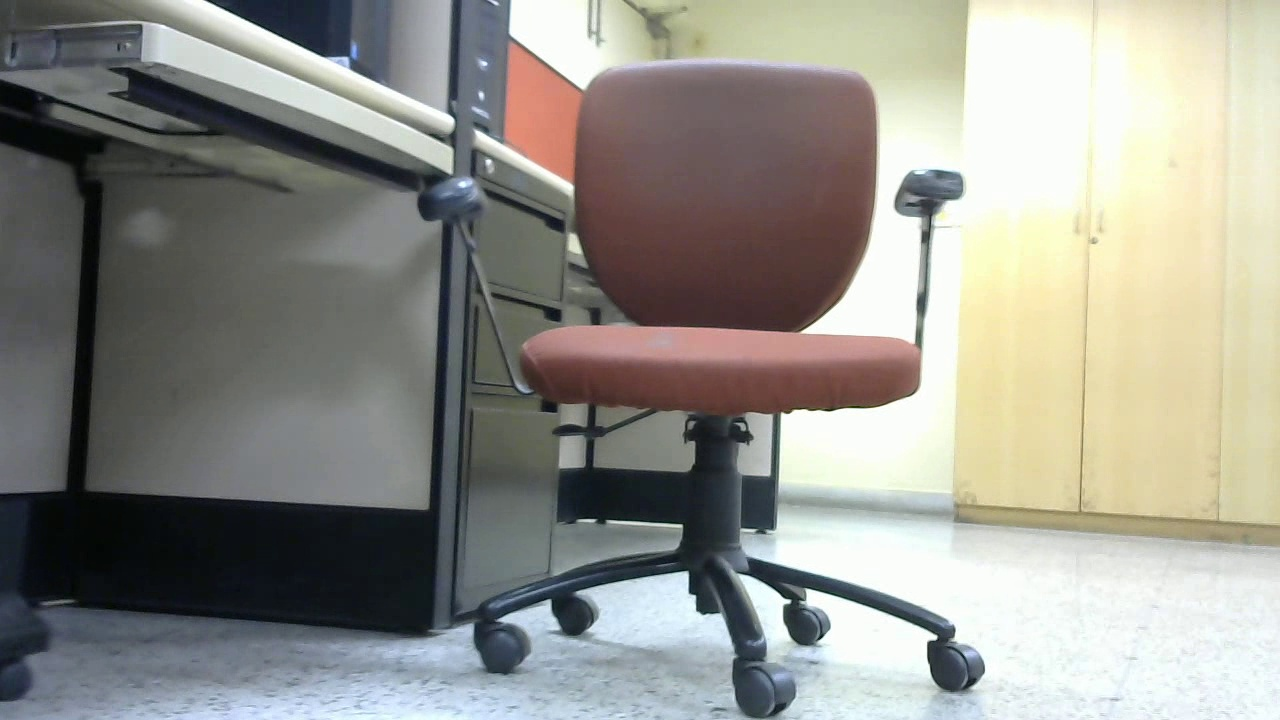chair: (623, 226, 879, 545), (272, 188, 446, 504)
